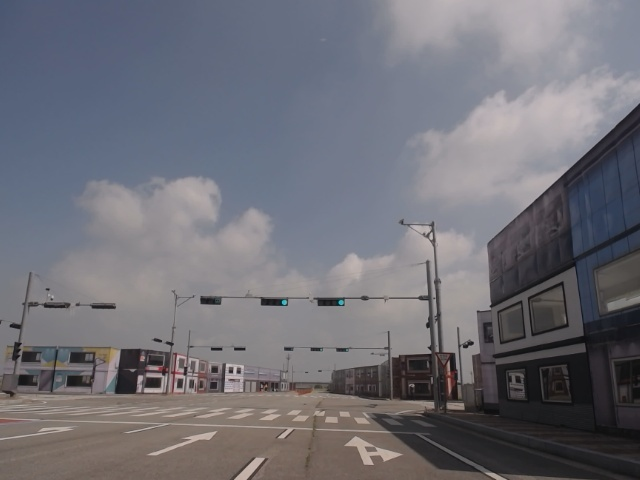straight_green_4: (262, 296, 289, 307), (316, 298, 346, 306)
